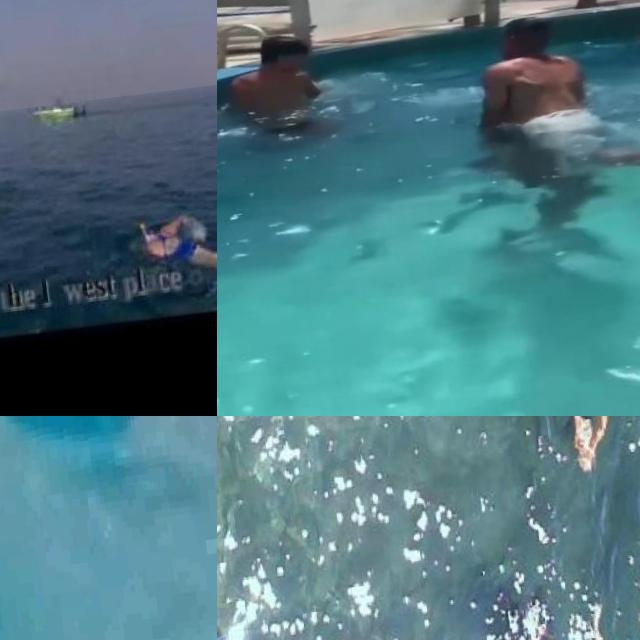swimming: (455, 0, 640, 188), (221, 26, 350, 137), (136, 198, 217, 283), (545, 416, 640, 464)
